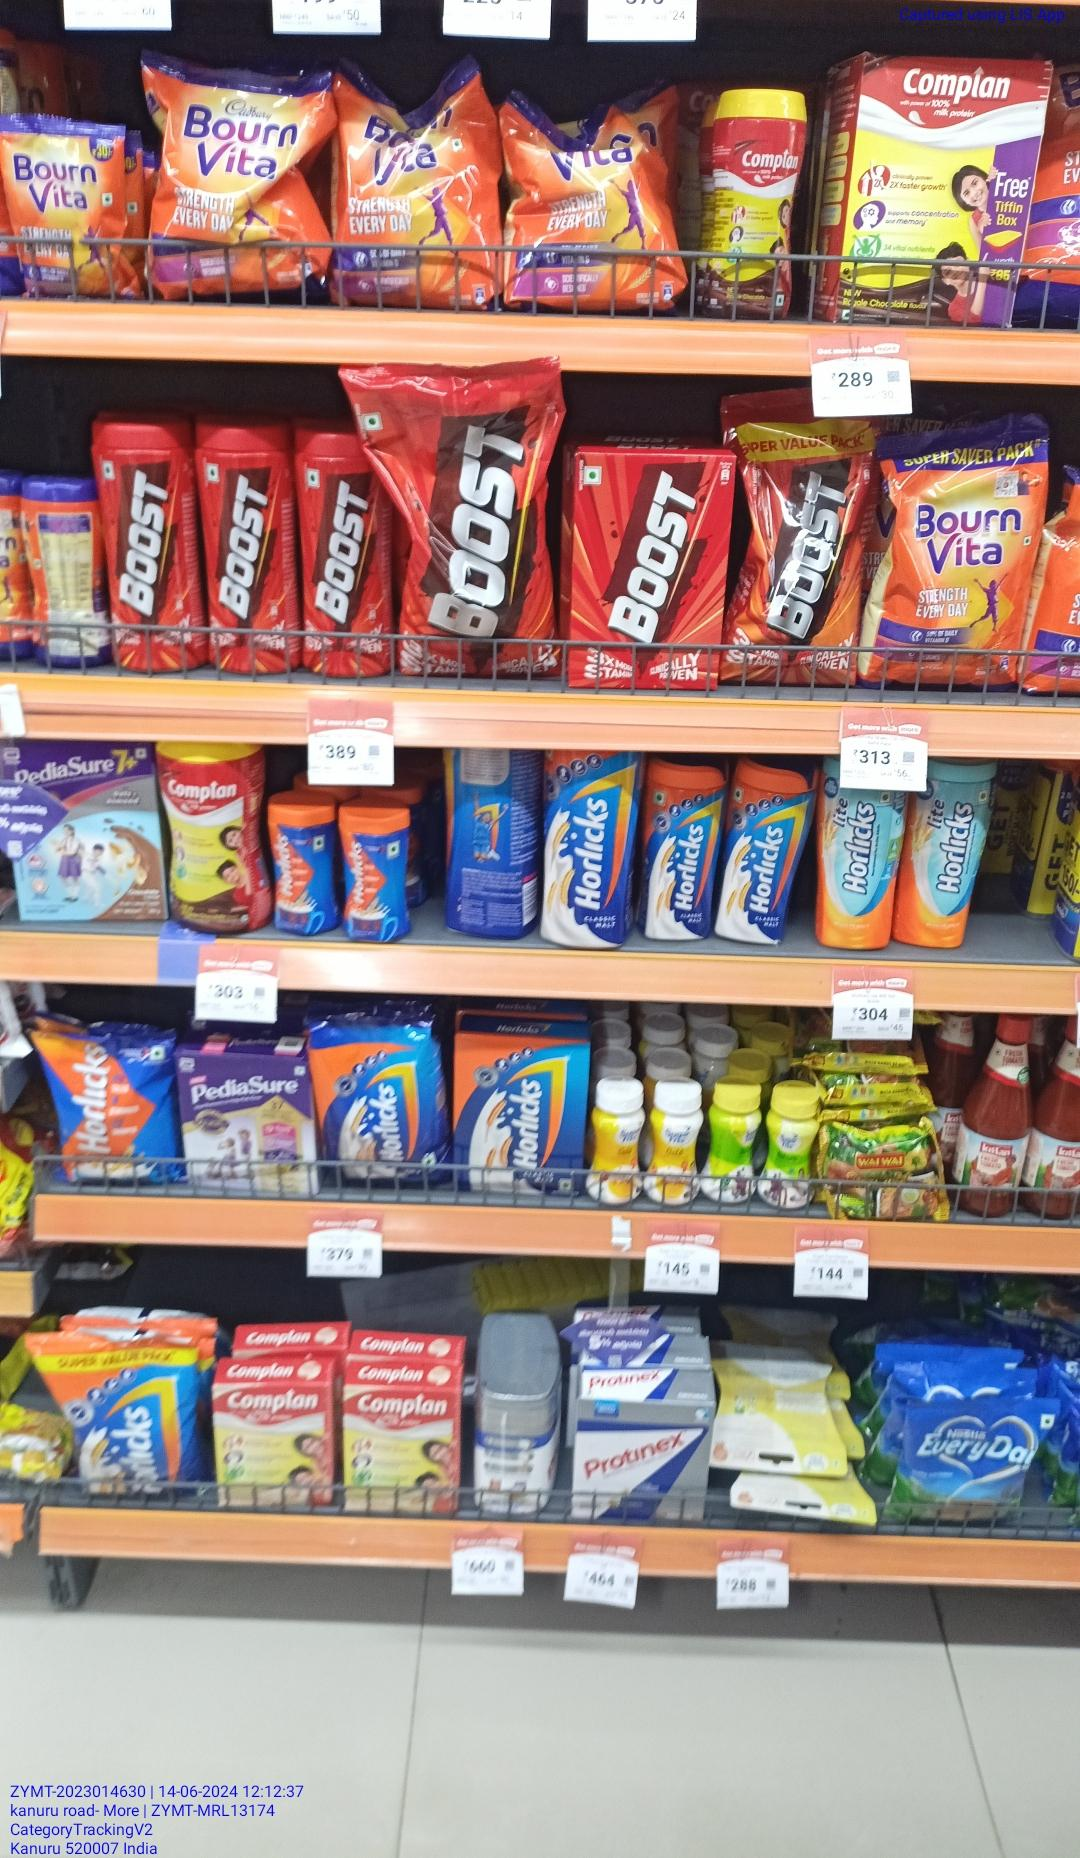BOURN_VITA_500_G_POUCH: (867, 428, 1049, 688), (154, 73, 319, 292), (332, 80, 485, 298)
BOURN_VITA_75_G_POUCH: (8, 114, 130, 302)
COMPLAN_CHOCOLATE_200_GMS_JAR: (710, 89, 807, 318)
COMPLAN_CHOCOLATE_500_GMS_JAR: (162, 738, 261, 940)
COMPLAN_CHOCOLATE_500_GMS_PACK: (845, 44, 1035, 328)
COMPLAN_KESAR_BADAM_200_GMS_PACK: (342, 1381, 459, 1515), (211, 1382, 330, 1507)
HORLICKS_LITE_REGULAR_MALT_500_GM_JAR: (904, 764, 986, 961), (822, 791, 895, 950)
HORLICK_CLASSIC_MALT_200_G_JAR: (342, 802, 411, 944), (265, 805, 334, 934)
HORLICK_CLASSIC_MALT_500_G_JAR: (719, 766, 804, 950), (642, 764, 714, 946)
HORLICK_CLASSIC_MALT_500_G_PACK: (454, 1031, 591, 1205)
PEDIASURE_7_PLUS_CHOCOLATE_400_G_PACK: (12, 743, 152, 923)
